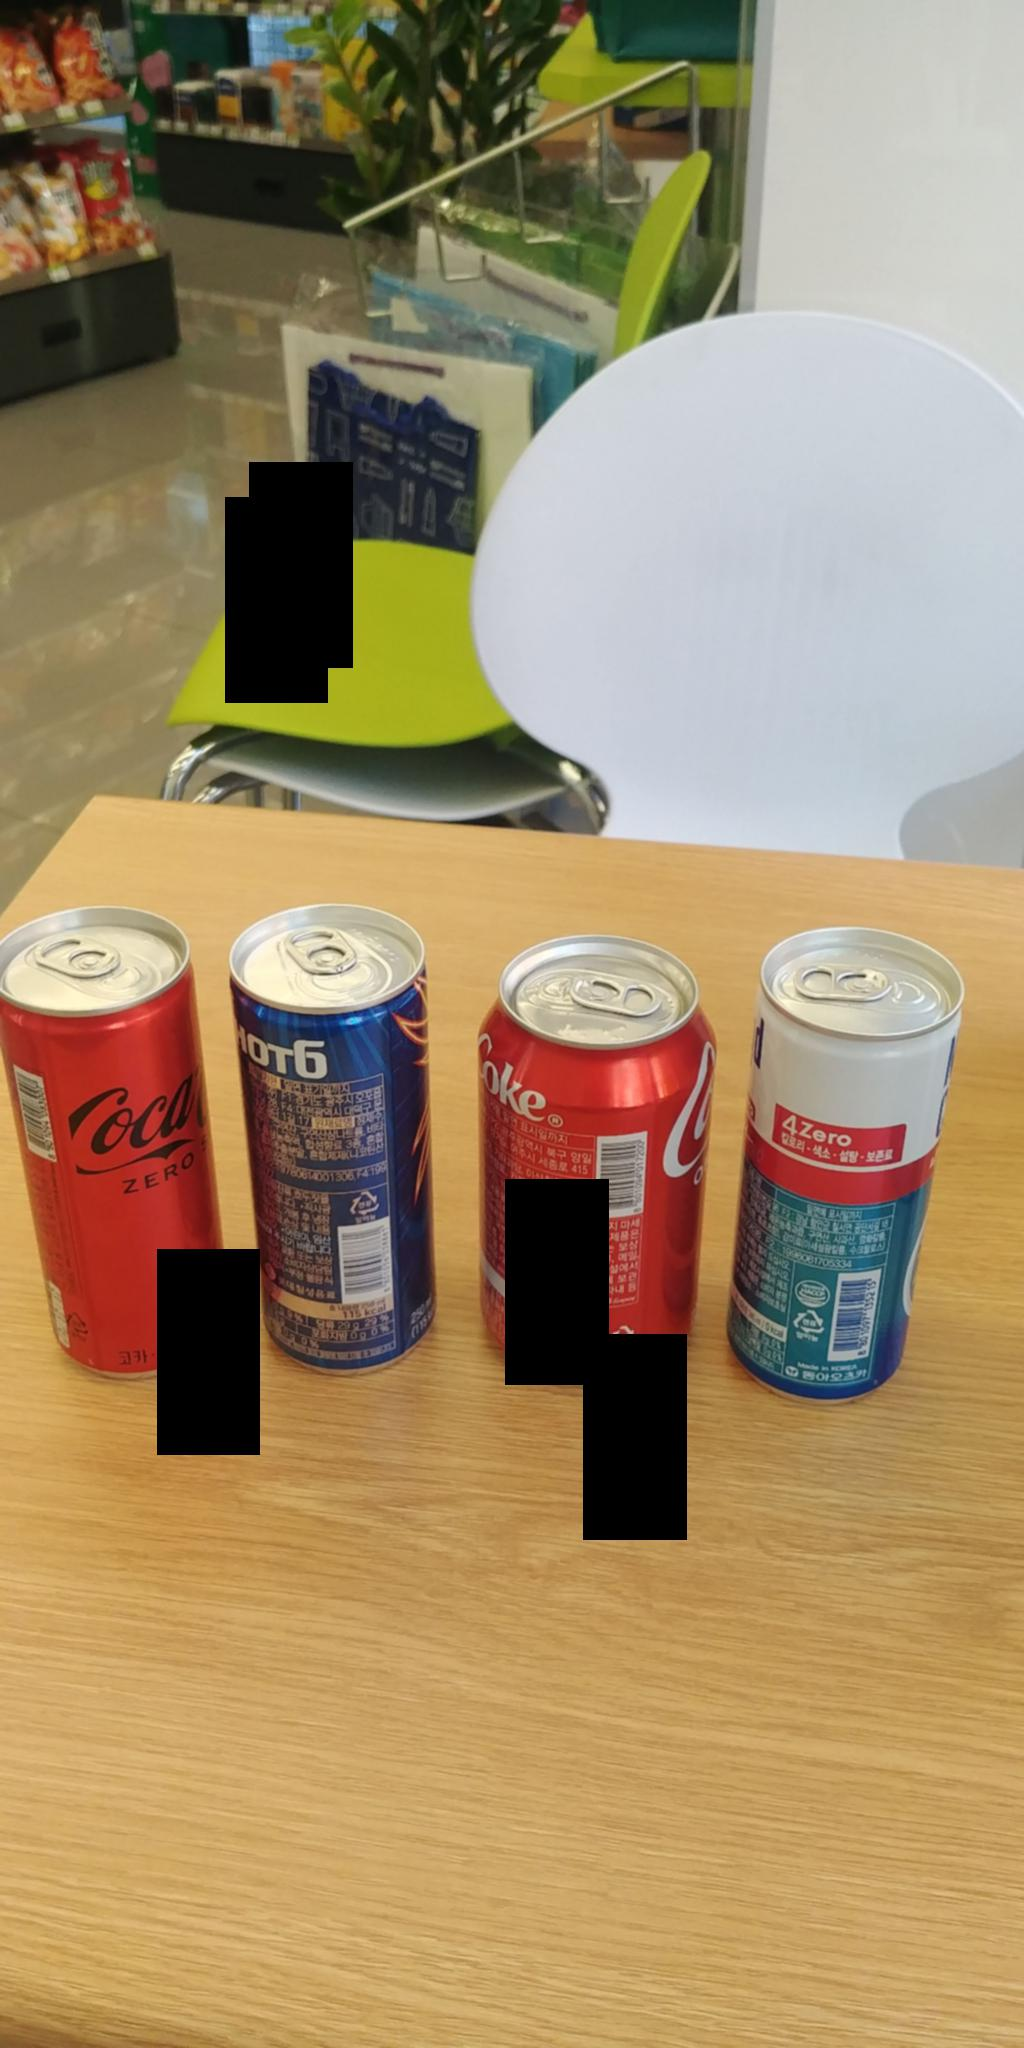cocacola: (460, 935, 718, 1375)
hotsix_org: (204, 916, 430, 1381)
narangdcider: (730, 934, 957, 1401)
